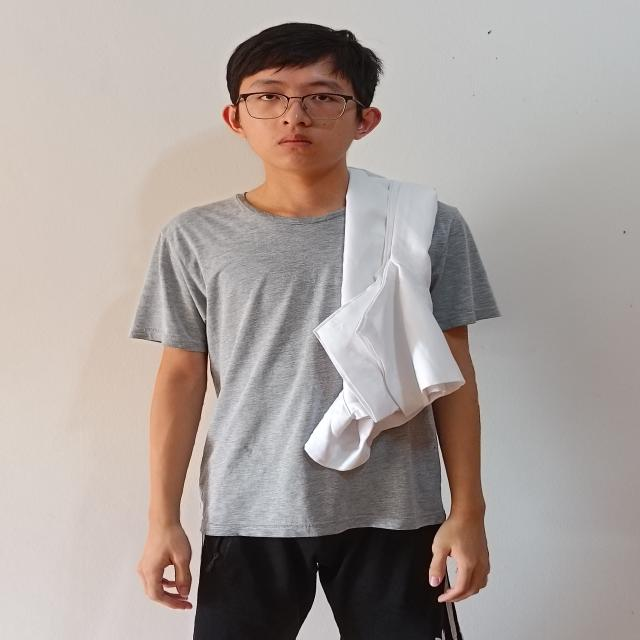person_without_labcoat: (131, 25, 499, 640)
